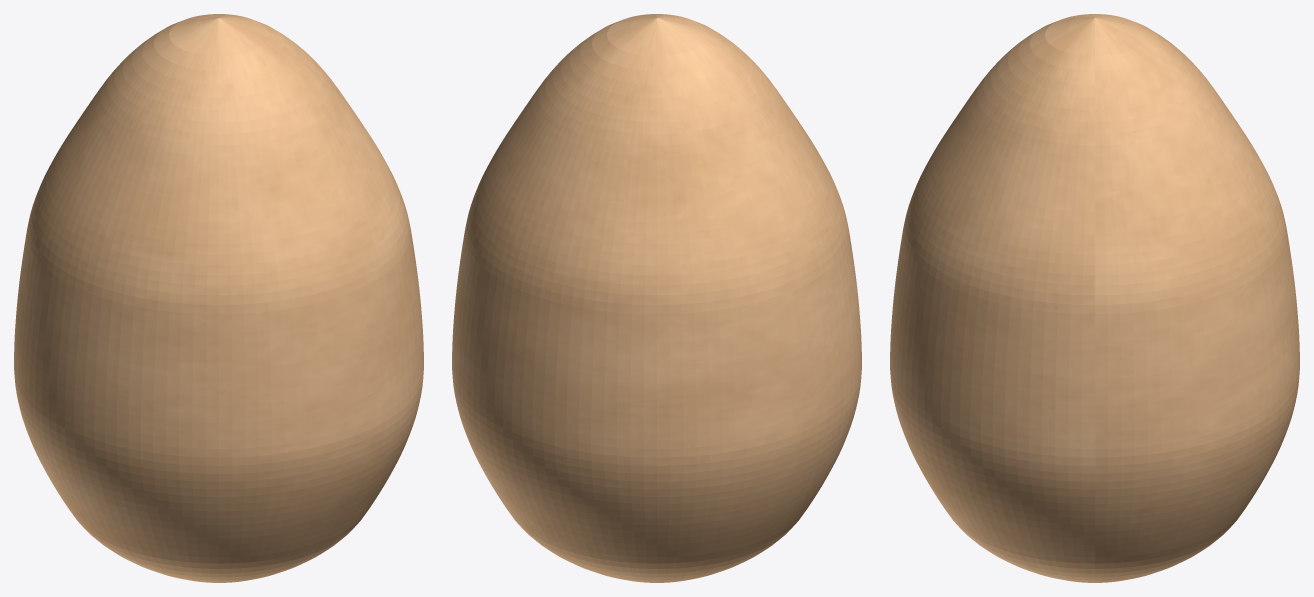
The model's file is egg-cartoon3.glb.
3 renders of one model, left to right at view 1: azimuth 30°, elevation 25°; view 2: azimuth 150°, elevation 25°; view 3: azimuth 270°, elevation 25°, orthographic.
Visible parts, largest first — view 1: Egg; view 2: Egg; view 3: Egg.
Boxes of the visible parts, <box> form: Egg: <box>14,14,423,582</box>; Egg: <box>452,14,861,582</box>; Egg: <box>890,14,1299,582</box>.
Size of the model in its own units: 1.59 by 2.36 by 1.59.
Materials: 1 (1 with a texture image).
